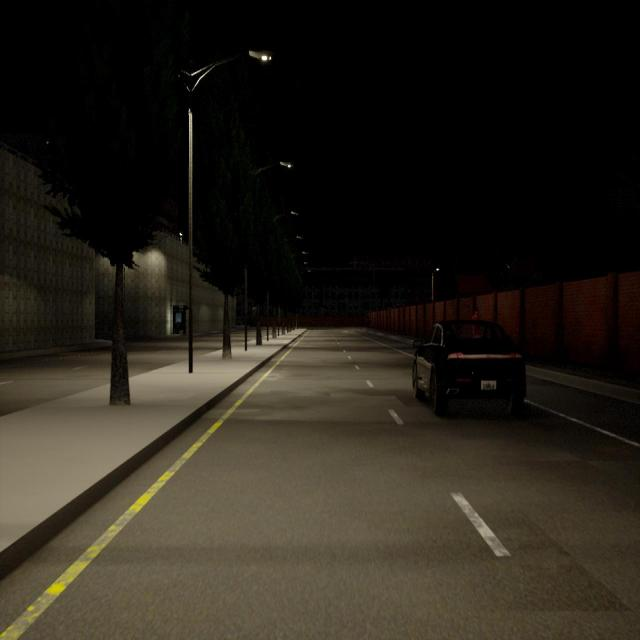Pedestrian: (472, 310, 479, 338)
Vehicle: (413, 320, 525, 414)
